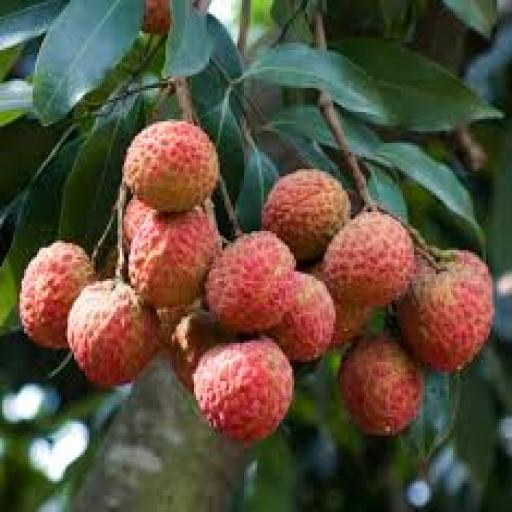lychee: (399, 253, 494, 371), (194, 339, 294, 442), (68, 282, 161, 385), (207, 231, 296, 333), (129, 210, 222, 307), (323, 212, 416, 307), (125, 122, 220, 211), (340, 334, 422, 435), (20, 241, 93, 347), (264, 170, 350, 259), (271, 272, 335, 361), (164, 310, 235, 390), (332, 303, 372, 347), (123, 198, 154, 247), (157, 305, 196, 342), (142, 0, 172, 35)
